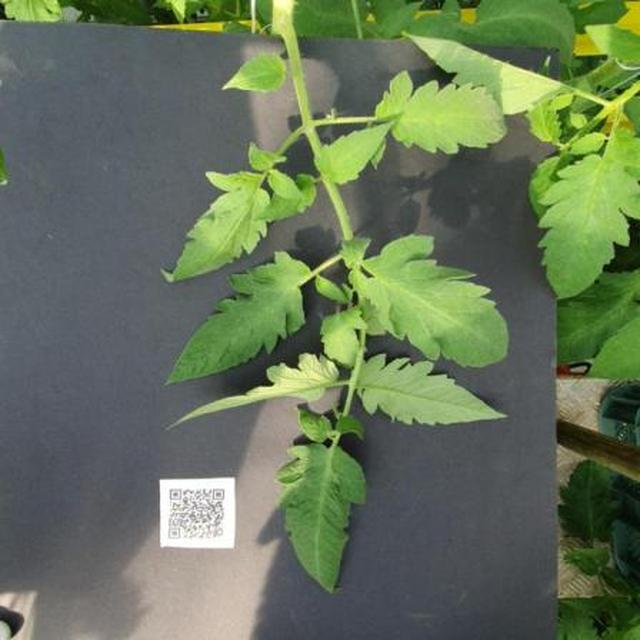Healthy Leaf: (94, 60, 640, 640)
